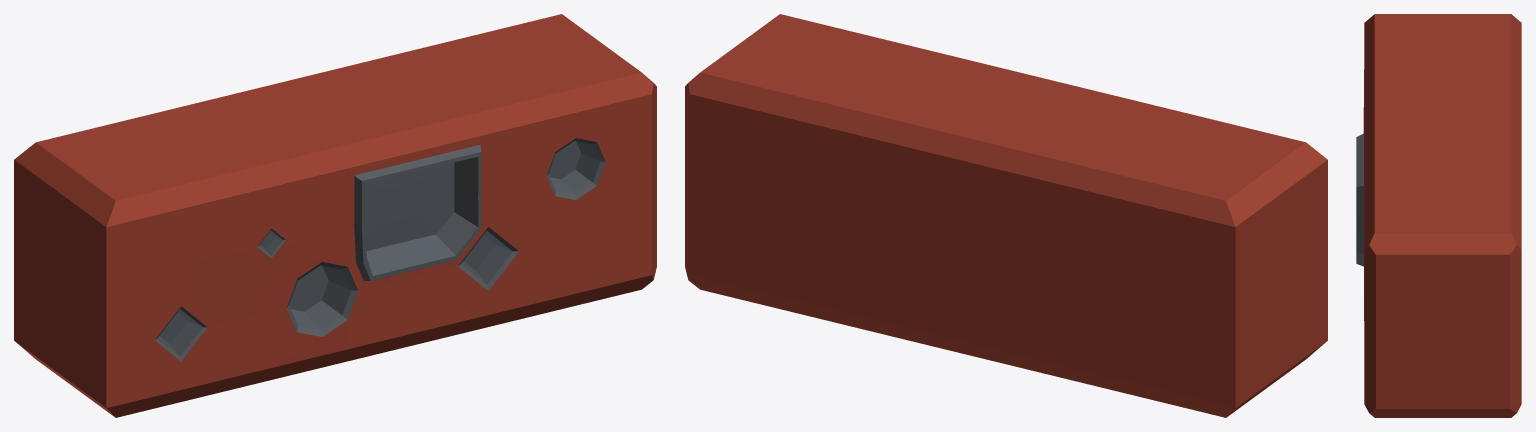
File: Dropship_02_Bumper_Red.fbx
3 views of the same model, side by side, from view 1: azimuth 30°, elevation 25°; view 2: azimuth 150°, elevation 25°; view 3: azimuth 270°, elevation 25° (orthographic). The views are drawn at different scales.
Parts seen in each view (by area): view 1: Dropship_02_Bumper_Red; view 2: Dropship_02_Bumper_Red; view 3: Dropship_02_Bumper_Red.
Part boxes in pixels (x1,y1,x2,y2): Dropship_02_Bumper_Red: (14, 14, 656, 417); Dropship_02_Bumper_Red: (685, 14, 1327, 417); Dropship_02_Bumper_Red: (1356, 14, 1521, 417).
Bounding box in the file's own units: 524 × 195 × 158.
Materials: 1 (1 with a texture image).
